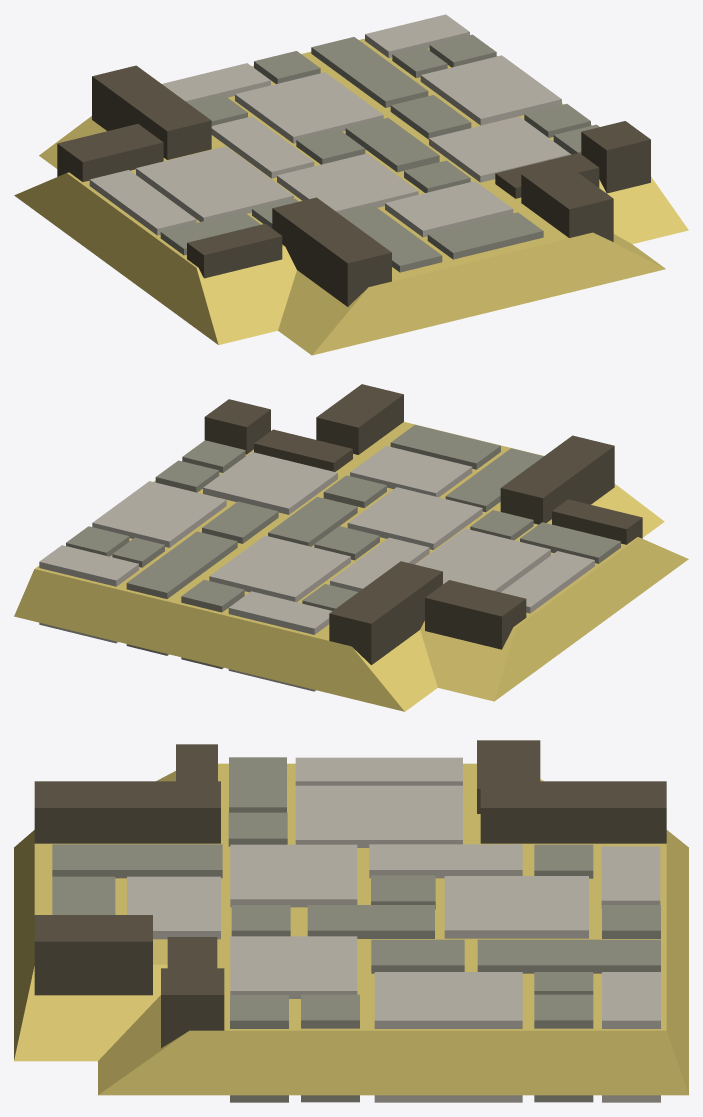
Rendered from FourWayQuarterFilled.fbx.
3 renders of one model, top to bottom at view 1: azimuth 30°, elevation 25°; view 2: azimuth 150°, elevation 25°; view 3: azimuth 270°, elevation 25°, orthographic. The views are drawn at different scales.
Parts seen in each view (by area): view 1: Stone - Four Way Quarter Filled; view 2: Stone - Four Way Quarter Filled; view 3: Stone - Four Way Quarter Filled.
Part boxes in pixels (x1,y1,x2,y2): Stone - Four Way Quarter Filled: (14,14,688,355); Stone - Four Way Quarter Filled: (14,384,688,711); Stone - Four Way Quarter Filled: (14,740,688,1102).
Bounding box in the file's own units: 106 × 19.07 × 107.
